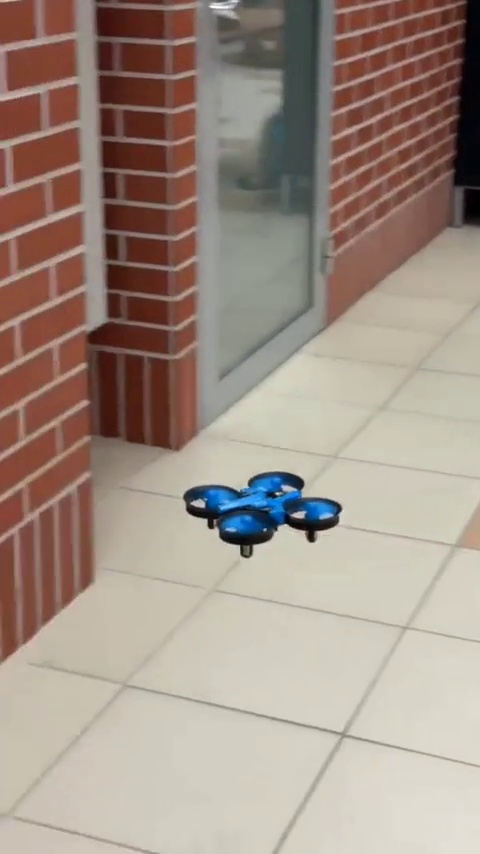drone: (180, 470, 340, 554)
